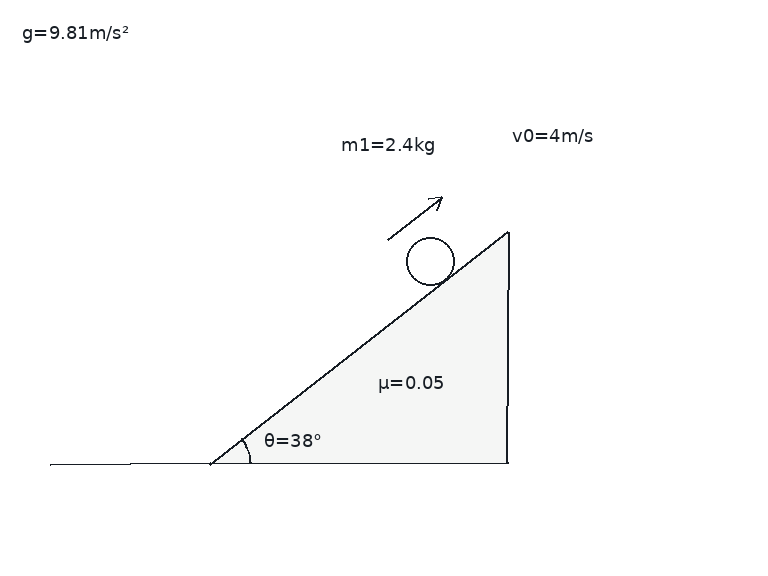ball: (404, 235, 456, 287)
ramp: (208, 229, 509, 465)
